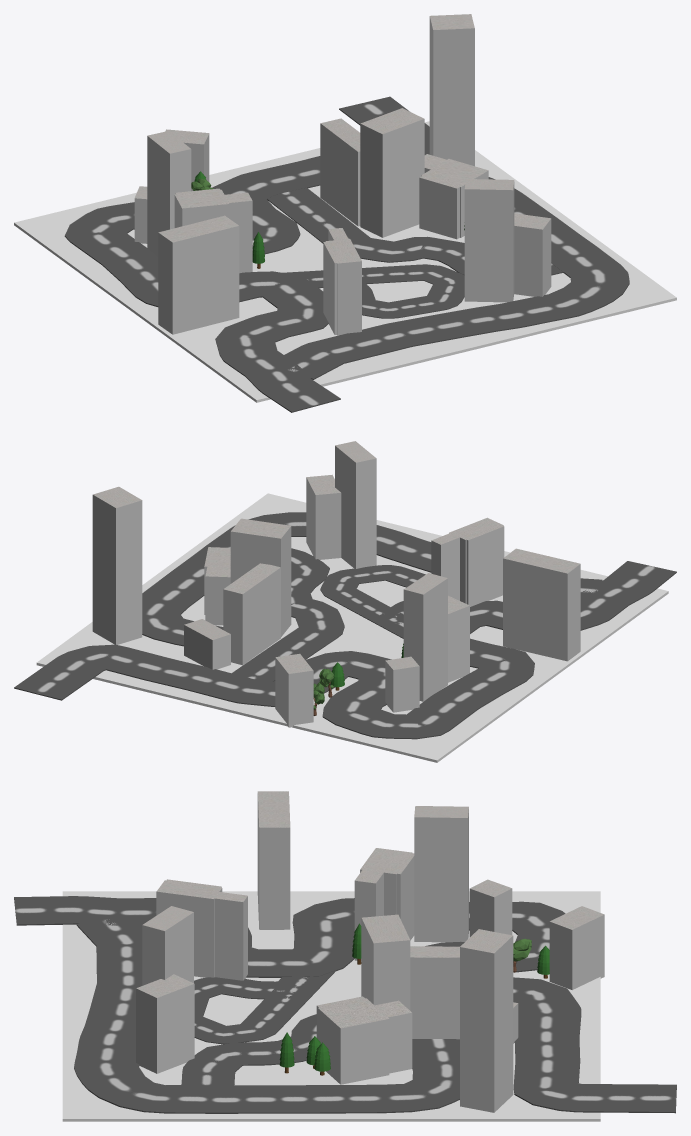
Rendered from MAP1.fbx.
3 views of the same model, one above another, from view 1: azimuth 30°, elevation 25°; view 2: azimuth 150°, elevation 25°; view 3: azimuth 270°, elevation 25° (orthographic). The views are drawn at different scales.
Visible parts, largest first — view 1: Floor, Road_curved.001, Road_curved, building_2.003, building_1.001, building_1, building_3, Road_curved.002, Road_curved.003, building_3.002, building_4, building_2.002 (+5 smaller); view 2: Road_curved.001, Floor, building_2.003, building_1, Road_curved, Road_curved.002, building_4.002, building_3.002, building_2.002, building_3, building_1.001, Road_curved.003 (+6 smaller); view 3: Floor, Road_curved.001, Road_curved, building_1, building_3.002, building_4, building_4.002, Road_curved.003, building_2.001, building_2.003, building_2.002, building_1.001 (+5 smaller).
Part boxes in pixels (x1,y1,x2,y2): Floor: (14, 121, 676, 402); Road_curved.001: (64, 96, 429, 412); Road_curved: (272, 177, 629, 379); building_2.003: (158, 215, 239, 334); building_1.001: (360, 108, 424, 237); building_1: (429, 14, 474, 166); building_3: (464, 179, 514, 302); Road_curved.002: (267, 187, 563, 275); Road_curved.003: (282, 264, 464, 318); building_3.002: (147, 131, 191, 256); building_4: (419, 154, 488, 239); building_2.002: (320, 118, 360, 226); Road_curved.001: (14, 561, 676, 739); Floor: (36, 493, 668, 762); building_2.003: (503, 548, 580, 661); building_1: (92, 486, 142, 644); Road_curved: (142, 512, 602, 646); Road_curved.002: (232, 548, 344, 681); building_4.002: (431, 517, 504, 606); building_3.002: (403, 573, 447, 701); building_2.002: (223, 563, 280, 665); building_3: (335, 441, 376, 568); building_1.001: (230, 518, 291, 636); Road_curved.003: (320, 565, 425, 638); Floor: (62, 891, 600, 1121); Road_curved.001: (14, 896, 676, 1113); Road_curved: (74, 917, 459, 1113); building_1: (460, 929, 513, 1112); building_3.002: (414, 806, 468, 942); building_4: (316, 996, 412, 1084); building_4.002: (156, 879, 247, 980); Road_curved.003: (194, 970, 335, 1044); building_2.001: (136, 974, 194, 1073); building_2.003: (257, 791, 290, 929); building_2.002: (410, 946, 459, 1039); building_1.001: (361, 914, 410, 1010).
Bounding box in the file's own units: 10000 × 3330 × 12317.
